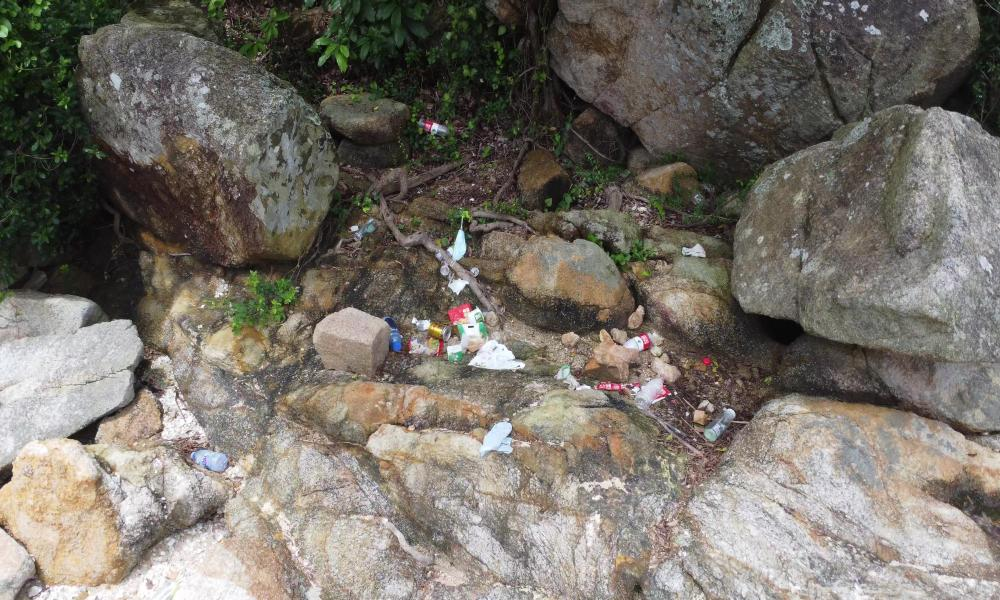can: (424, 316, 452, 338)
plastic bag: (475, 415, 517, 464), (464, 339, 526, 369), (675, 235, 709, 258), (449, 276, 468, 294)
plastic bottle: (187, 440, 228, 478), (630, 374, 666, 414), (704, 406, 738, 444), (417, 117, 457, 144), (622, 328, 661, 352), (352, 213, 380, 244), (381, 313, 403, 351), (437, 260, 451, 279)
